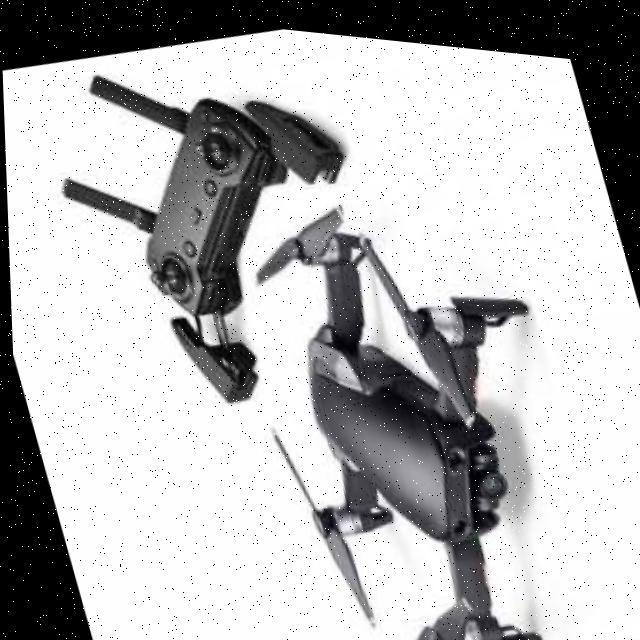drones: (210, 145, 623, 640)
